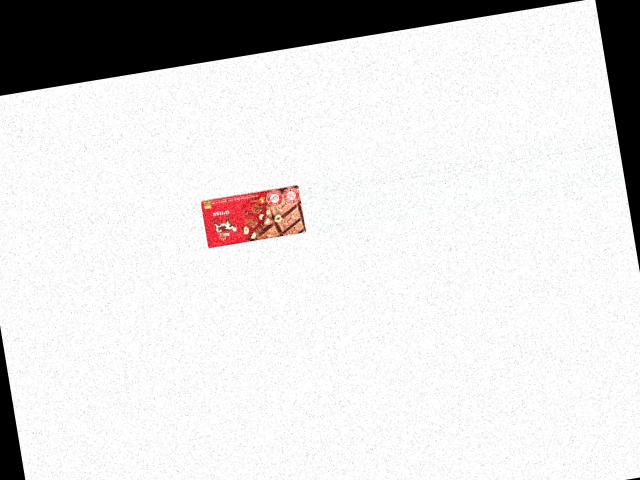chocolate: (199, 183, 306, 248)
